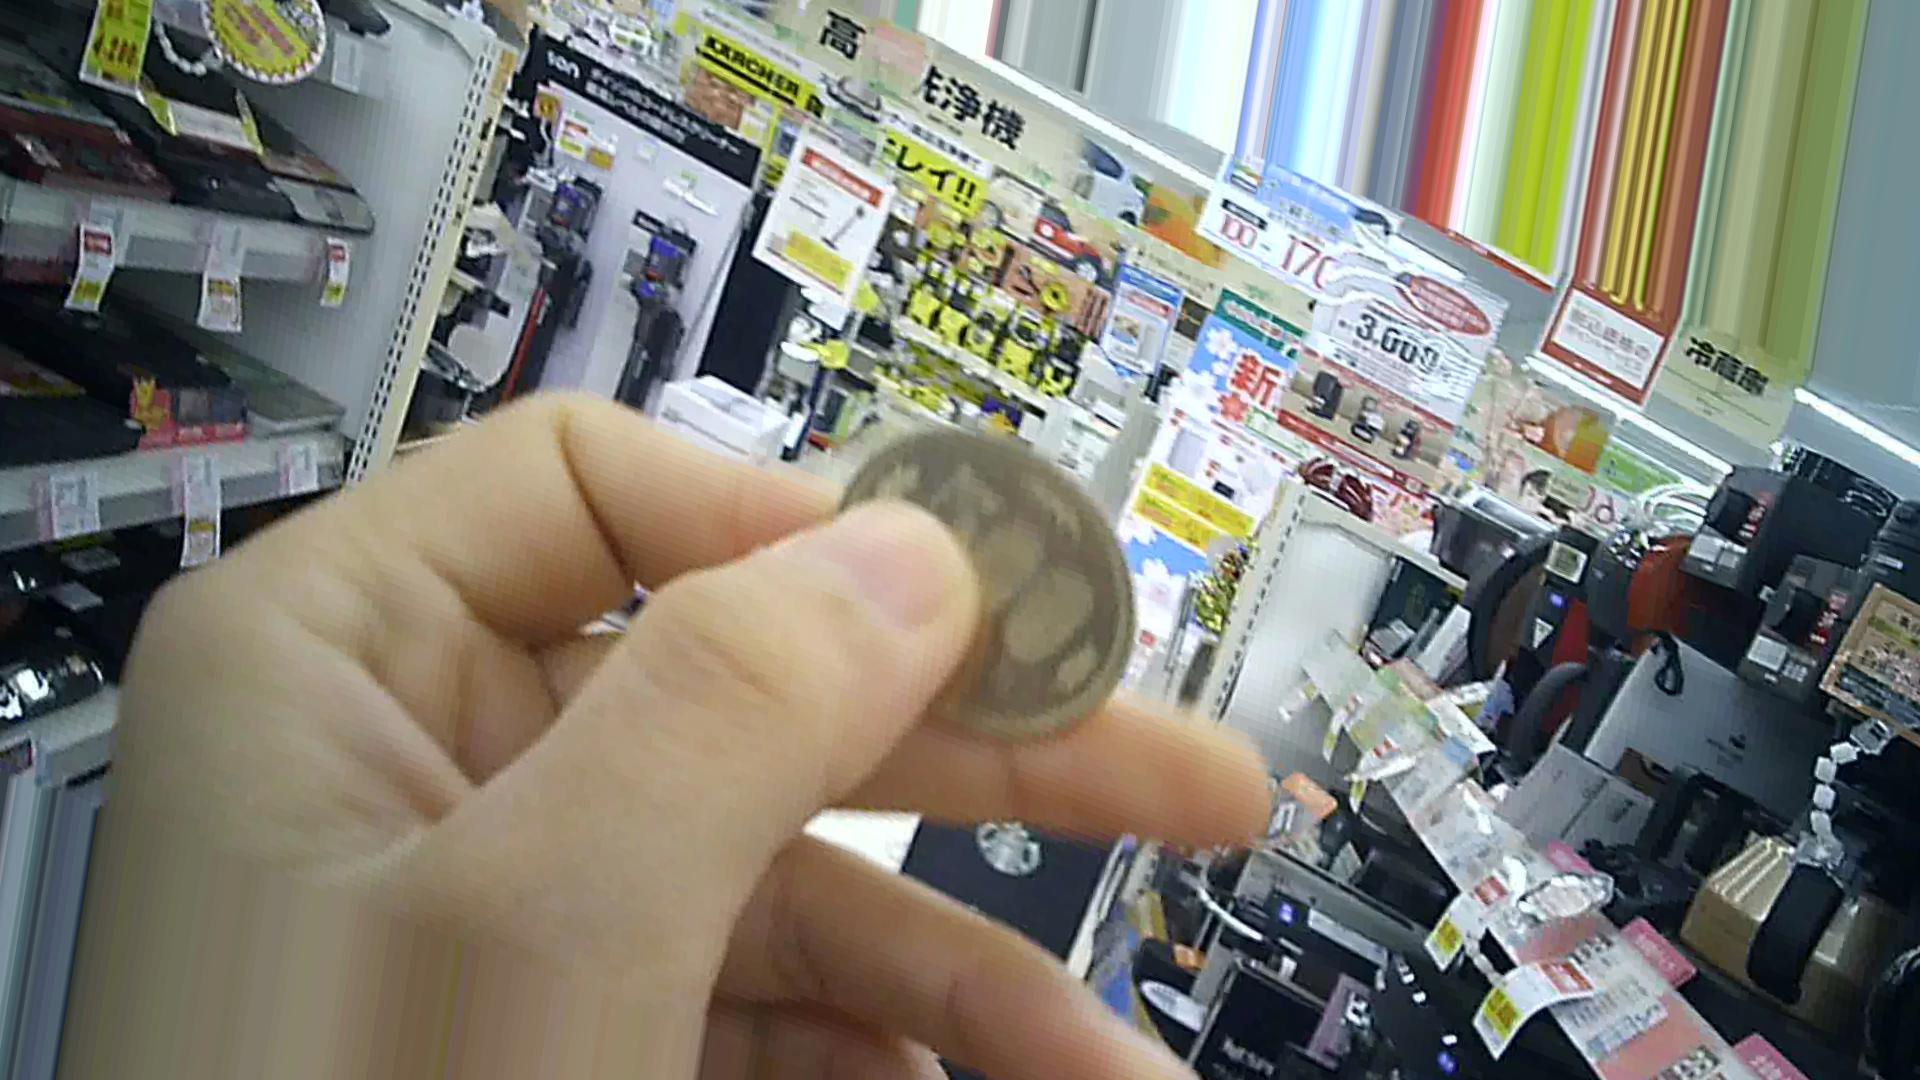500 Yen: (827, 410, 1147, 757)
